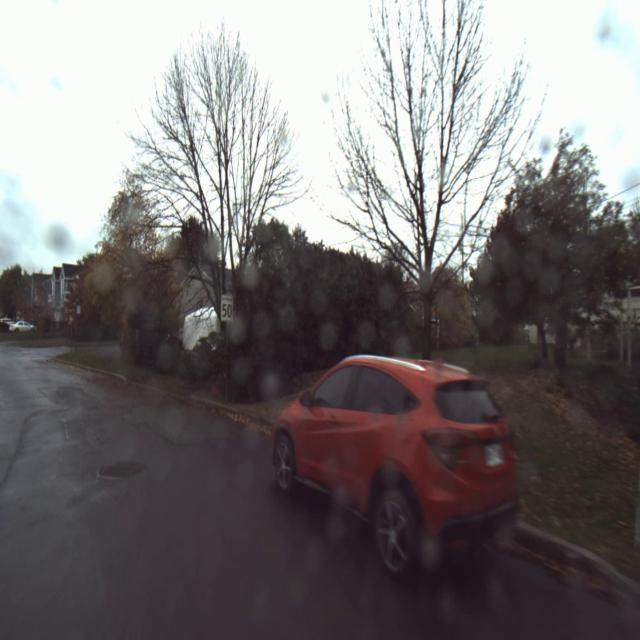car: (264, 338, 524, 574)
